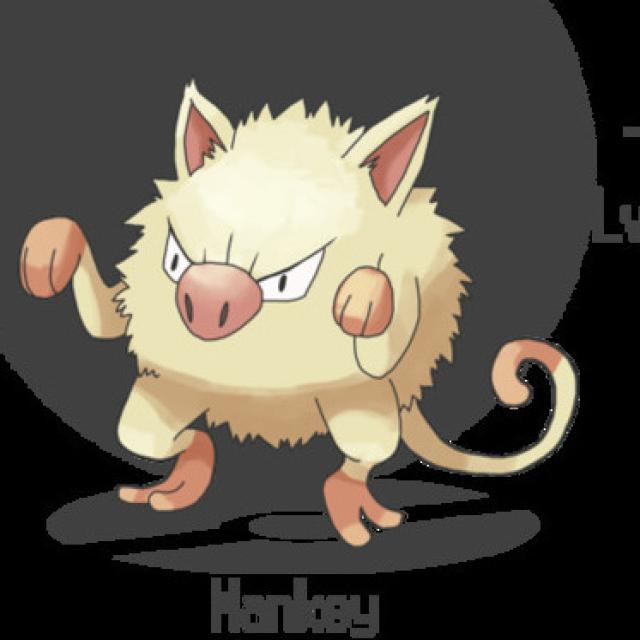Mankey: (30, 72, 480, 542)
